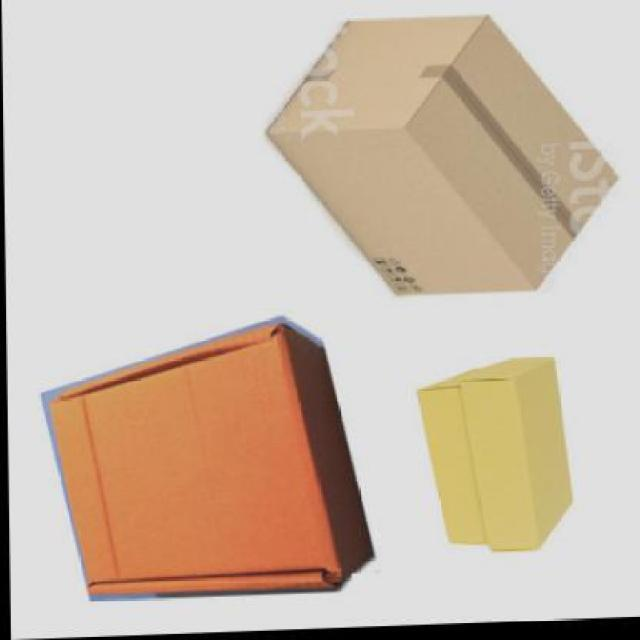box: (264, 12, 620, 303), (46, 324, 371, 596), (417, 358, 573, 556)
